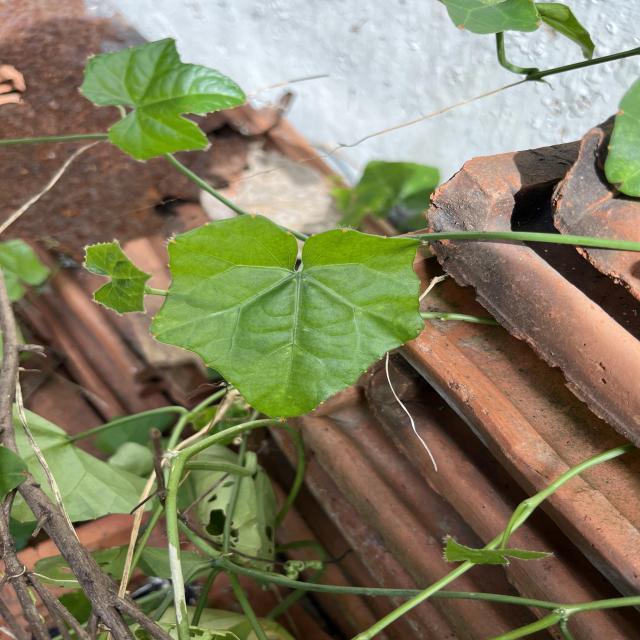Coccinia grandis: (148, 211, 428, 424)
